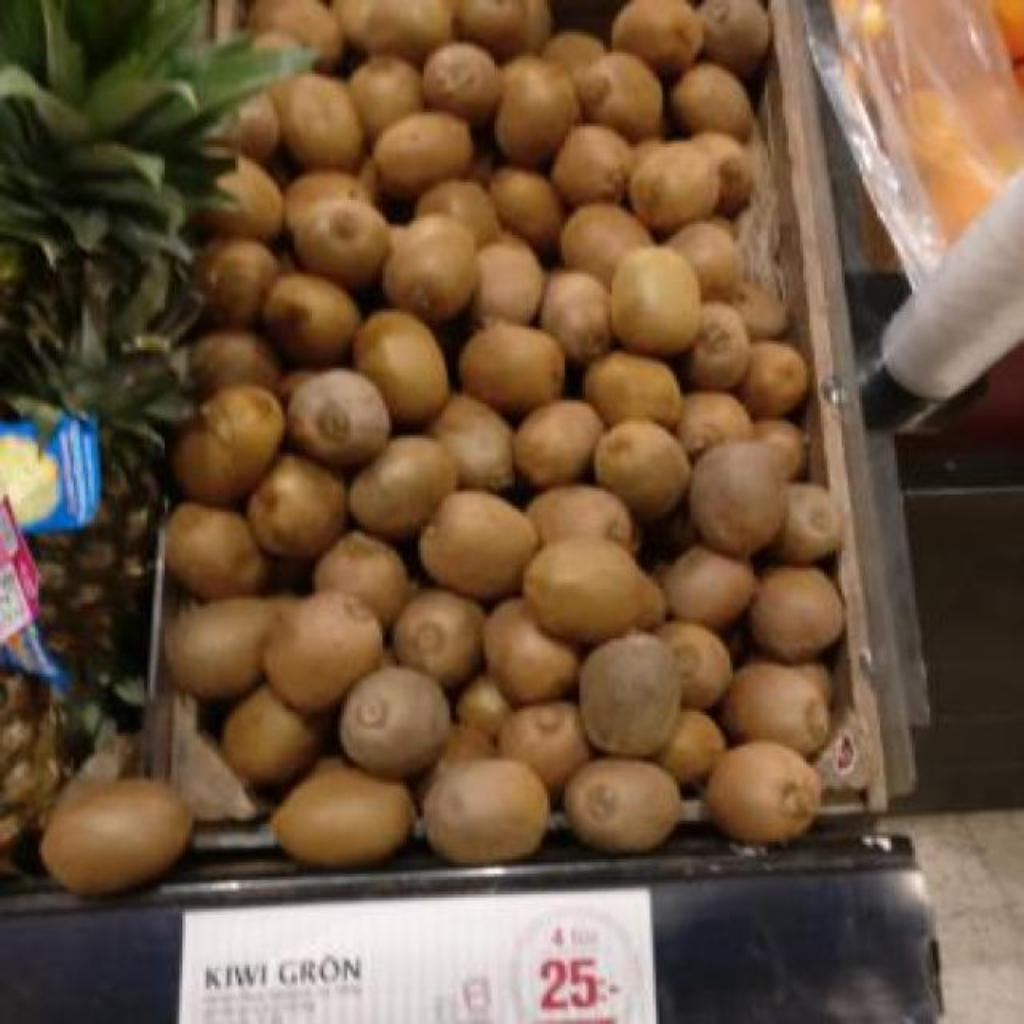kiwi: (40, 782, 190, 895), (272, 758, 414, 867), (264, 590, 382, 712), (172, 384, 284, 512), (422, 758, 550, 864), (420, 490, 538, 601), (580, 632, 682, 757), (340, 666, 450, 777), (524, 538, 640, 643), (706, 742, 820, 843), (688, 440, 786, 557), (166, 600, 280, 700), (350, 436, 458, 539), (354, 310, 450, 424), (564, 760, 680, 851), (288, 368, 392, 468), (248, 454, 346, 559), (382, 214, 476, 323), (484, 598, 578, 705), (722, 662, 830, 755), (166, 502, 268, 599), (222, 684, 318, 785), (612, 246, 700, 355), (494, 56, 580, 167), (460, 324, 562, 415), (314, 532, 412, 625), (596, 422, 688, 520), (272, 74, 364, 170), (628, 140, 720, 235), (750, 568, 842, 662), (396, 590, 484, 686), (262, 276, 356, 365), (498, 702, 590, 791), (294, 200, 388, 287), (430, 394, 514, 491), (658, 546, 754, 627), (380, 112, 470, 197), (516, 402, 604, 487), (562, 202, 652, 285), (584, 352, 682, 427), (578, 54, 662, 141), (334, 0, 452, 61), (526, 486, 634, 551), (200, 156, 284, 239), (200, 240, 280, 327), (612, 0, 702, 75), (656, 622, 732, 709), (540, 272, 610, 365), (670, 62, 754, 139), (552, 126, 632, 205), (424, 42, 500, 125), (348, 56, 424, 139), (666, 220, 740, 299), (474, 240, 542, 325), (774, 482, 844, 564), (190, 330, 278, 395), (256, 0, 344, 65), (488, 168, 560, 247), (686, 302, 750, 390), (284, 170, 371, 233), (417, 180, 500, 245), (656, 708, 726, 784), (738, 342, 808, 418), (690, 132, 754, 215), (704, 0, 770, 77), (459, 0, 548, 57), (676, 394, 752, 455), (456, 674, 512, 737), (730, 282, 788, 340), (542, 30, 606, 79), (754, 418, 804, 479)
